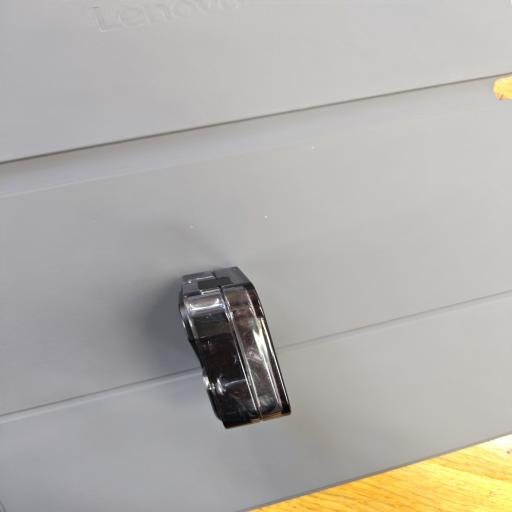Headphones: (172, 260, 300, 435)
